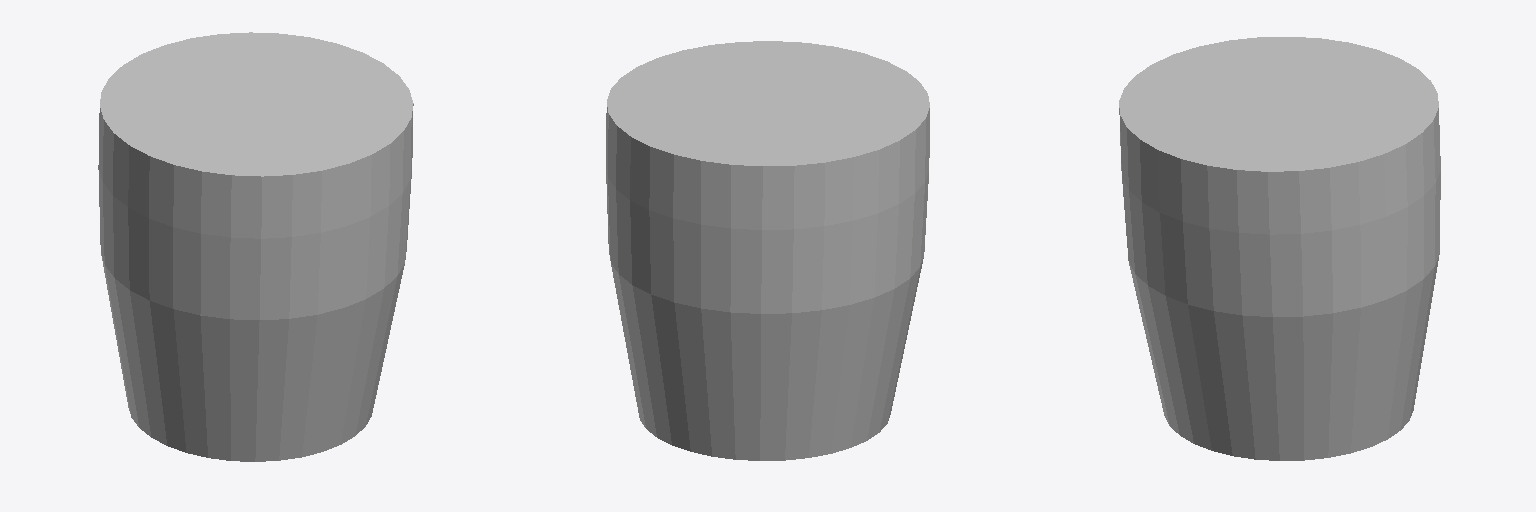
The model's file is stand4.obj.
The picture shows the model from 3 angles: view 1: azimuth 30°, elevation 25°; view 2: azimuth 150°, elevation 25°; view 3: azimuth 270°, elevation 25°; orthographic projection.
Parts seen in each view (by area): view 1: Plane.014; view 2: Plane.014; view 3: Plane.014.
Boxes of the visible parts, x1,y1,x2,y2 form: Plane.014: [98, 32, 413, 461]; Plane.014: [606, 41, 929, 460]; Plane.014: [1119, 37, 1440, 460].
Size of the model in its own units: 0.2635 by 0.286 by 0.2673.